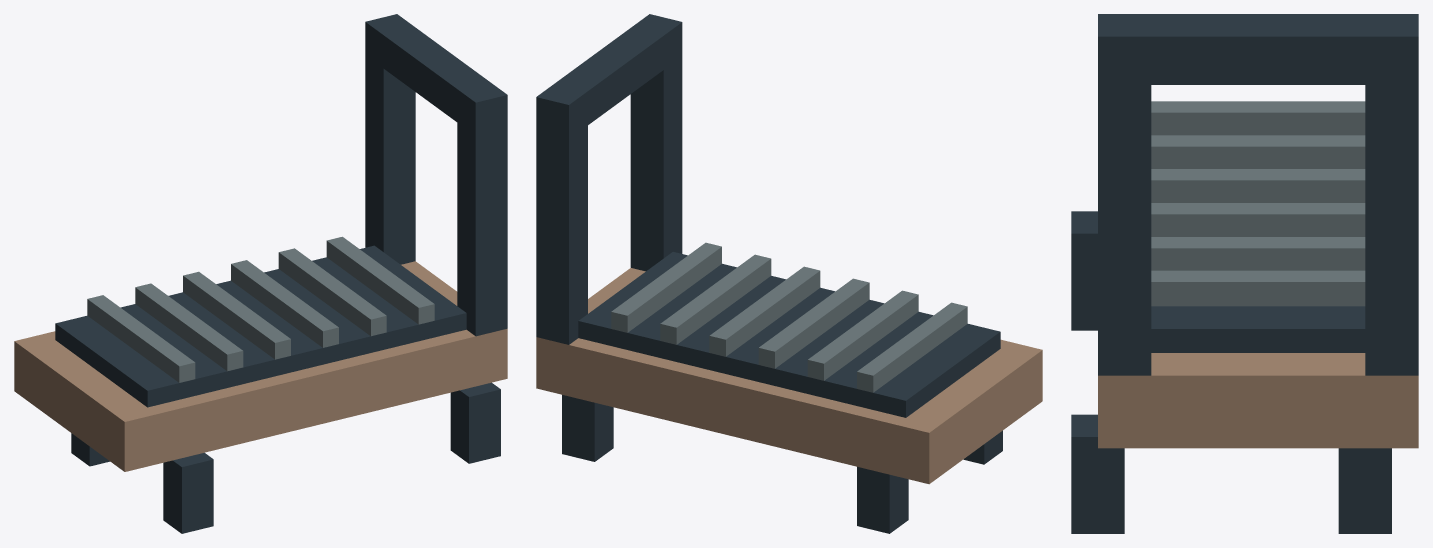
Rendered from publishing-05.glb.
The picture shows the model from 3 angles, left to right: view 1: azimuth 30°, elevation 25°; view 2: azimuth 150°, elevation 25°; view 3: azimuth 270°, elevation 25°; orthographic projection. The views are drawn at different scales.
Parts seen in each view (by area): view 1: Book cart; view 2: Book cart; view 3: Book cart.
Part boxes in pixels (x1,y1,x2,y2): Book cart: (14,14,507,533); Book cart: (536,14,1042,533); Book cart: (1071,14,1418,533).
Bounding box in the file's own units: 1.92 × 1.68 × 1.04.
